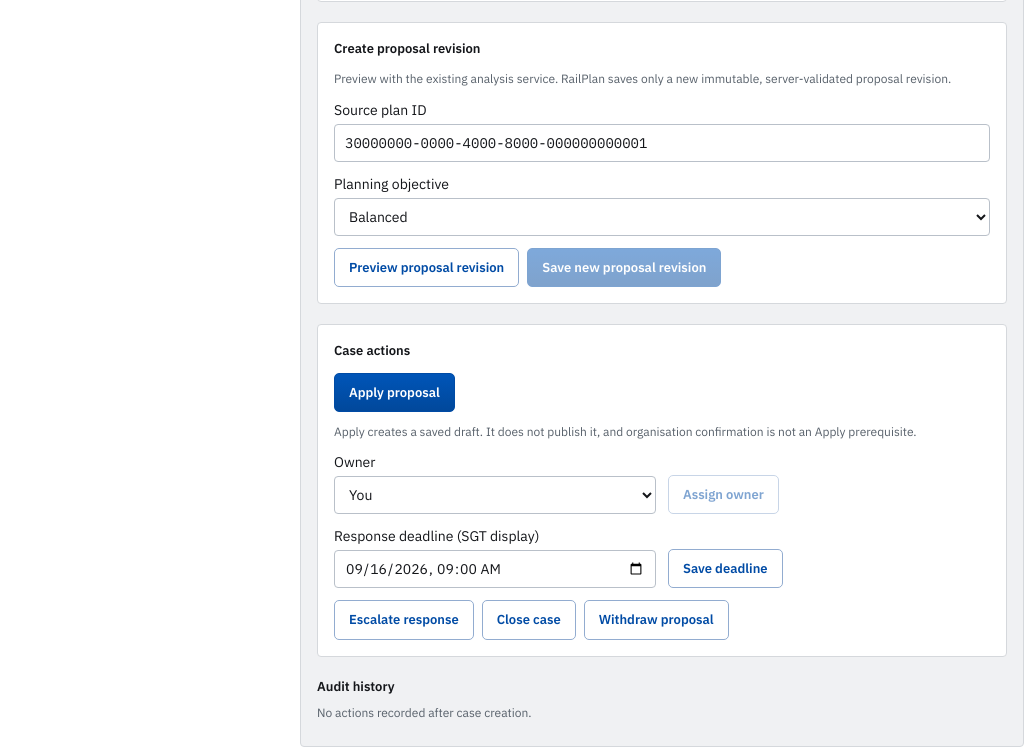
Test case: planner coordination › reuses the Apply idempotency key after an uncertain response
(page scrolled)
Click the button "Apply proposal": (394, 392) [334, 373, 455, 412]
(page scrolled)
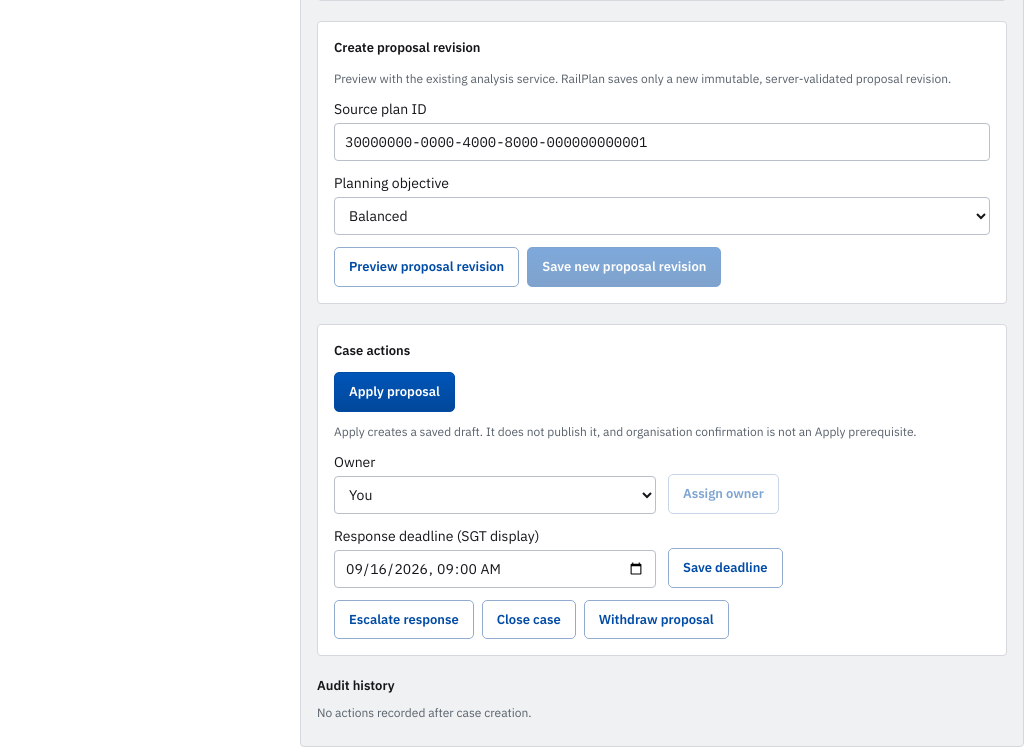
Click the button "Apply proposal": (394, 392) [334, 372, 455, 412]
(page scrolled)
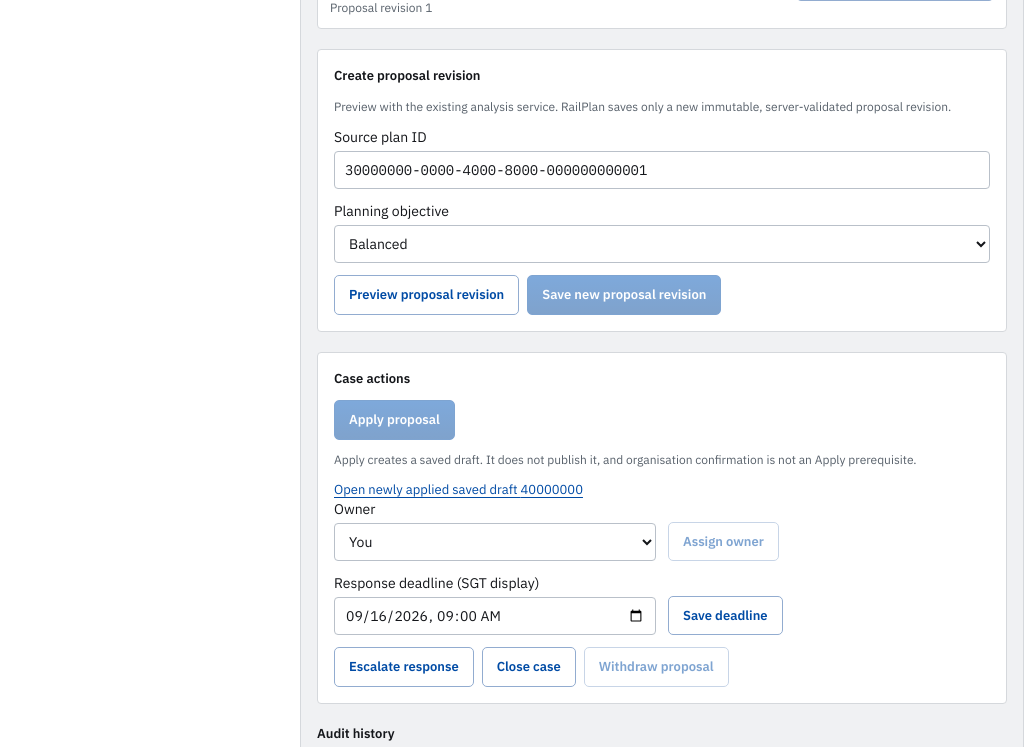
Expected: the link "Open newly applied saved draft 40000000" is shown, [334, 481, 583, 498]
